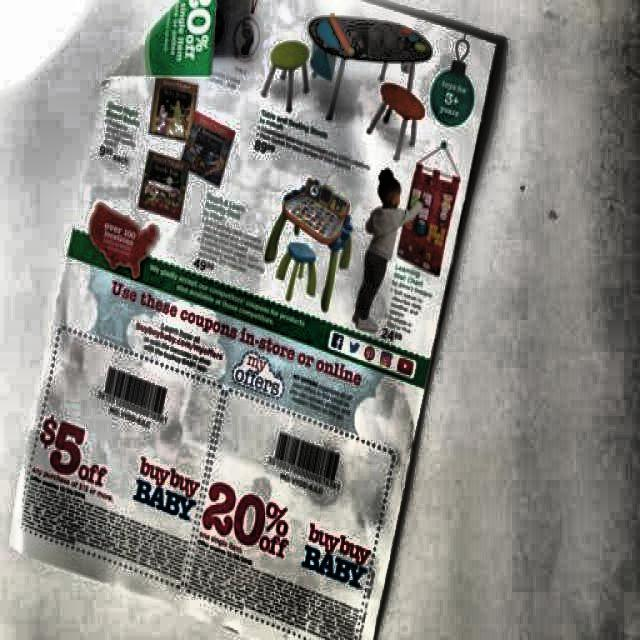Paper: (9, 0, 495, 638)
